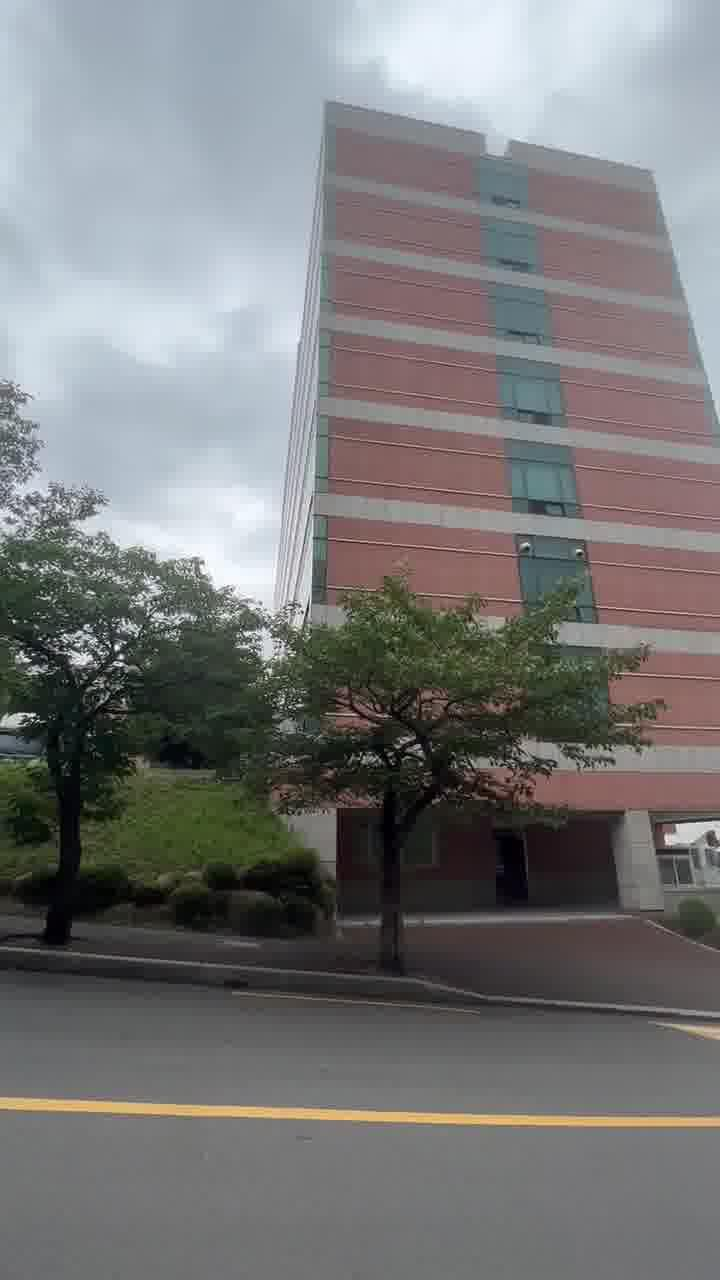building: (300, 94, 720, 618)
